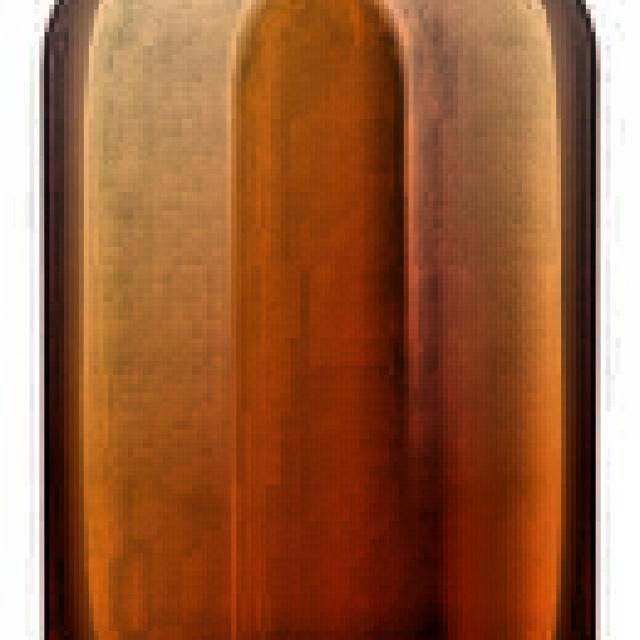glass: (9, 0, 600, 640)
